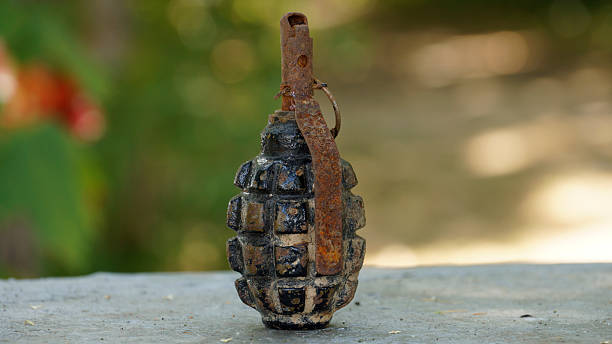e1: (233, 11, 366, 333)
